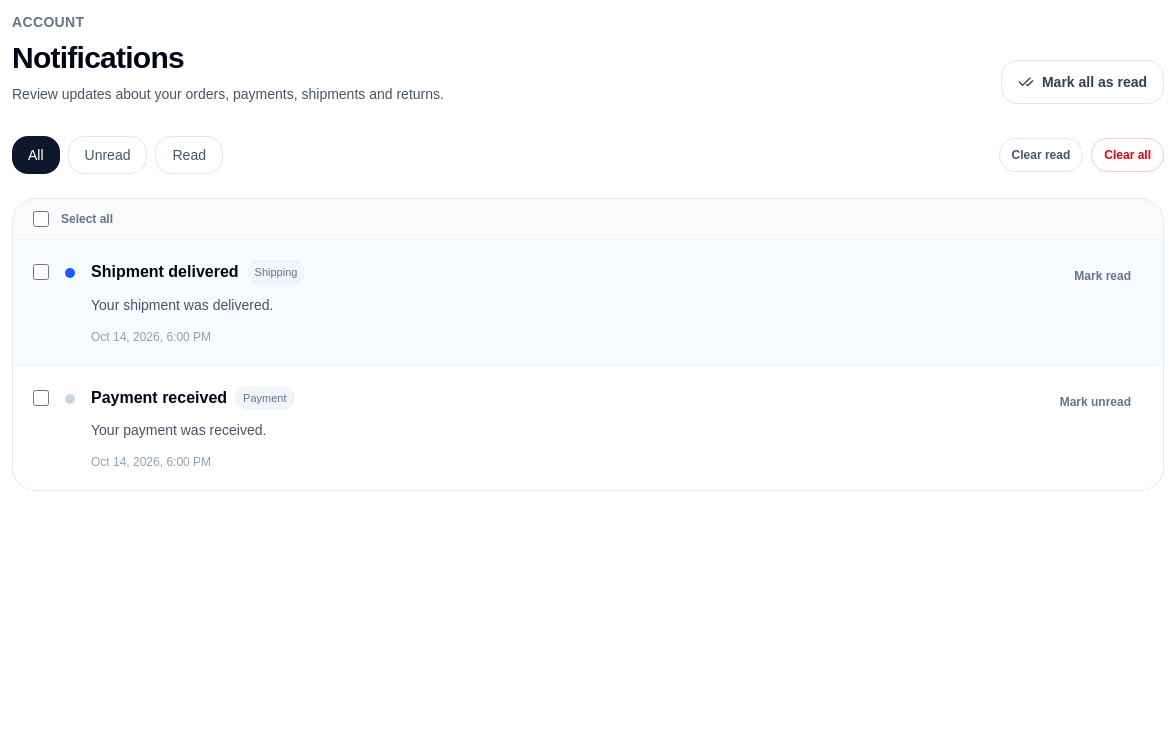
it: NotificationCenter › marks selected notifications as read
Check: the heading "Shipment delivered" is shown, box [91,260,239,284]
Click the checkbox named "Select Shipment delivered" at (41, 272), box [33,264,49,280]
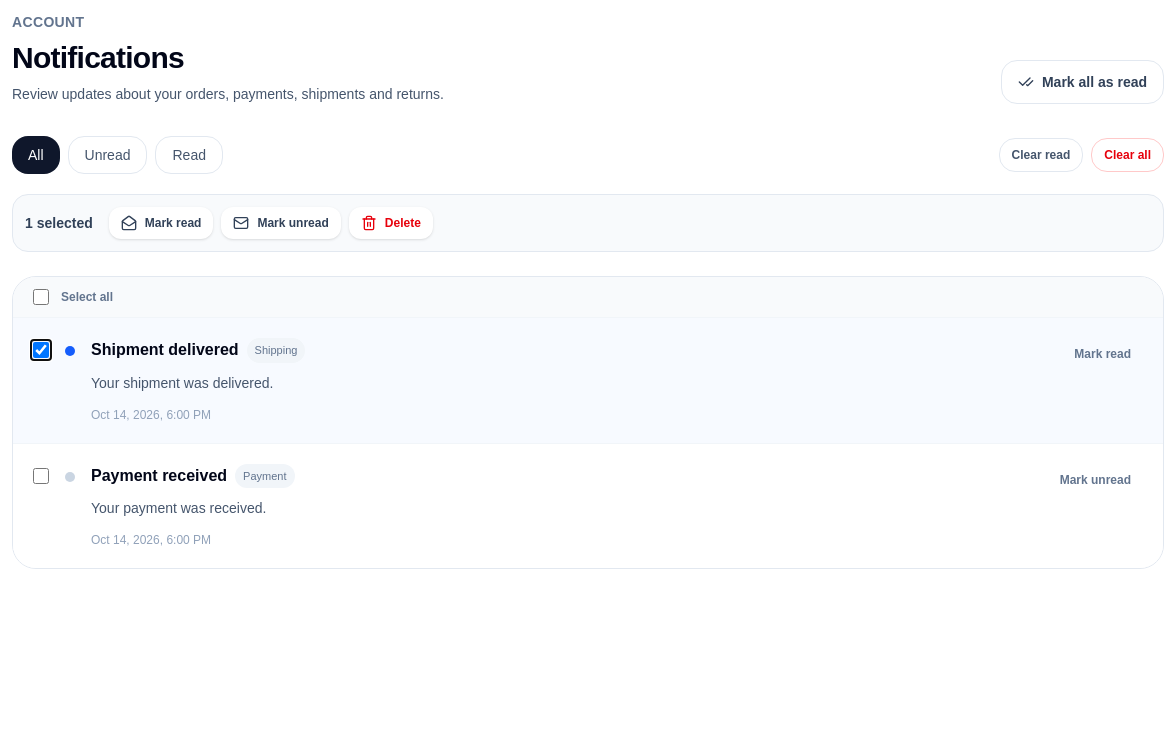
Check: the text "1 selected" is shown, box [12,194,1164,252]
Click the button "Mark read" next to "selected" at (161, 223), box [109,207,213,239]
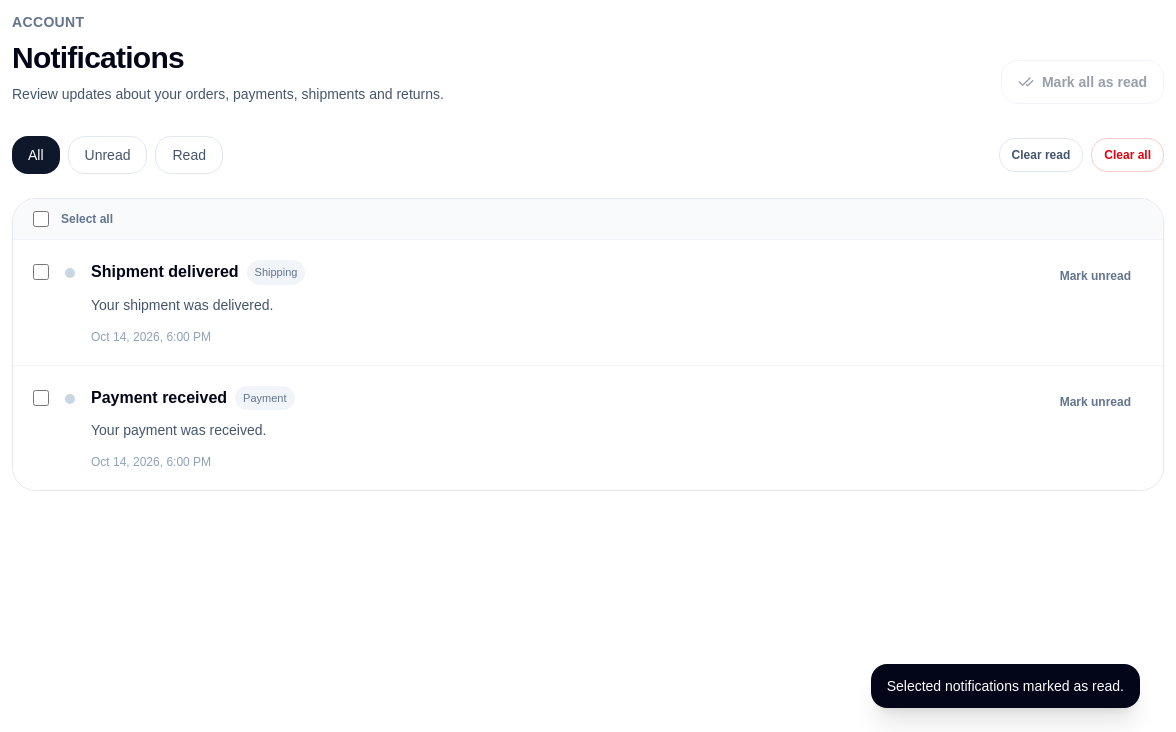
Check: the text "1 selected" is gone
Check: the message reads "Selected notifications marked as read.", box [887,678,1124,694]
